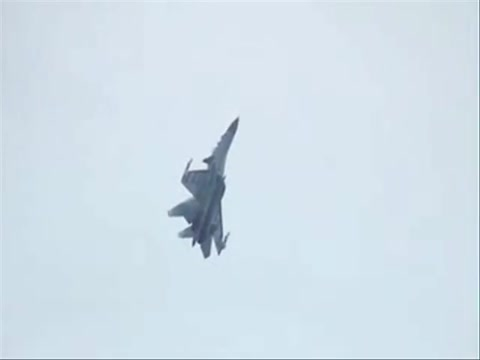aeroplane: (168, 116, 243, 260)
